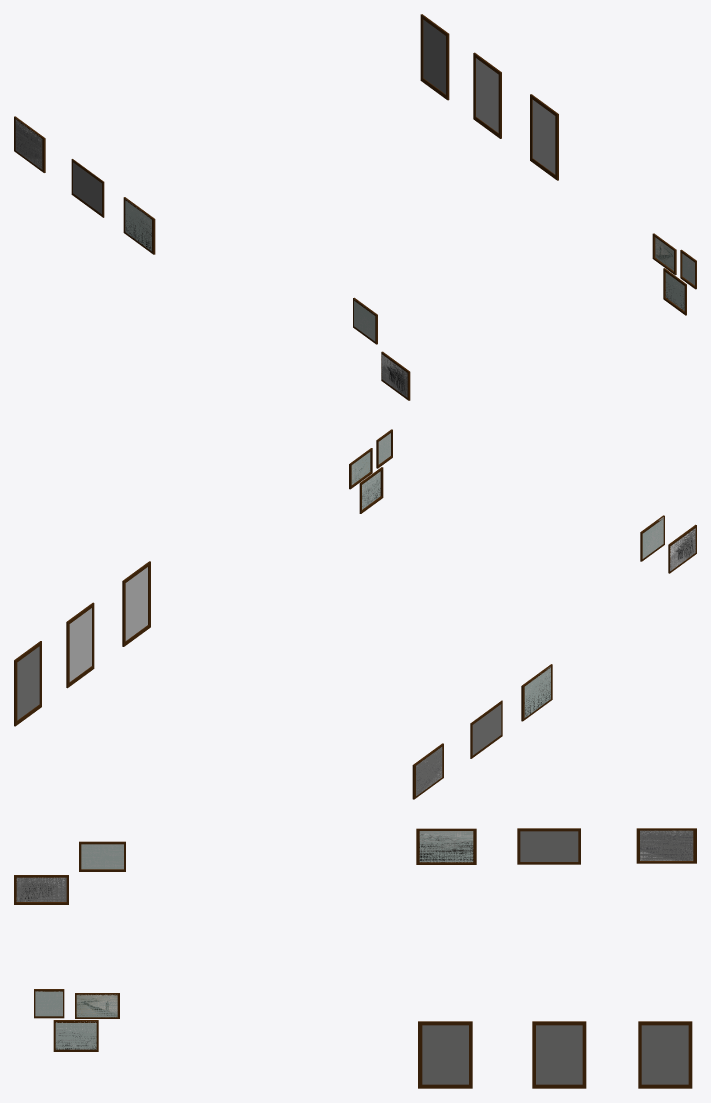
Rendered from Gallerijen.fbx.
3 renders of one model, top to bottom at view 1: azimuth 30°, elevation 25°; view 2: azimuth 150°, elevation 25°; view 3: azimuth 270°, elevation 25°, orthographic.
Parts seen in each view (by area): view 1: Group11, Group4, Group15, Group12, Group7, Group18, Group8, Group13, Group5, Group3, Group10, Group17 (+1 smaller); view 2: Group4, Group11, Group15, Group12, Group7, Group18, Group8, Group5, Group13, Group10, Group17, Group3 (+1 smaller); view 3: Group3, Group10, Group17, Group12, Group7, Group18, Group8, Group5, Group13, Group6, Group1.
Part boxes in pixels (left/top/right/bottom): Group11: left=532, top=100, right=555, bottom=174; Group4: left=423, top=20, right=445, bottom=94; Group15: left=476, top=58, right=498, bottom=132; Group12: left=71, top=159, right=104, bottom=217; Group7: left=123, top=197, right=155, bottom=254; Group18: left=14, top=116, right=45, bottom=172; Group8: left=381, top=351, right=410, bottom=400; Group13: left=353, top=297, right=377, bottom=344; Group5: left=663, top=268, right=686, bottom=315; Group3: left=420, top=14, right=449, bottom=100; Group10: left=530, top=94, right=558, bottom=180; Group17: left=473, top=52, right=501, bottom=138; Group4: left=17, top=646, right=39, bottom=720; Group11: left=125, top=567, right=147, bottom=640; Group15: left=69, top=608, right=91, bottom=681; Group12: left=470, top=700, right=502, bottom=758; Group7: left=521, top=664, right=552, bottom=721; Group18: left=412, top=743, right=443, bottom=799; Group8: left=668, top=524, right=696, bottom=573; Group5: left=359, top=467, right=383, bottom=513; Group13: left=640, top=515, right=664, bottom=561; Group10: left=122, top=561, right=150, bottom=646; Group17: left=66, top=602, right=94, bottom=688; Group3: left=14, top=641, right=41, bottom=726; Group3: left=638, top=1021, right=692, bottom=1088; Group10: left=418, top=1021, right=472, bottom=1088; Group17: left=532, top=1021, right=586, bottom=1088; Group12: left=517, top=828, right=580, bottom=864; Group7: left=416, top=828, right=476, bottom=864; Group18: left=636, top=828, right=696, bottom=863; Group8: left=14, top=875, right=68, bottom=904; Group5: left=53, top=1020, right=98, bottom=1051; Group13: left=79, top=841, right=125, bottom=871; Group6: left=75, top=993, right=119, bottom=1018; Group1: left=34, top=989, right=64, bottom=1018.
Size of the model in its own units: 8153 by 1430 by 11828.
